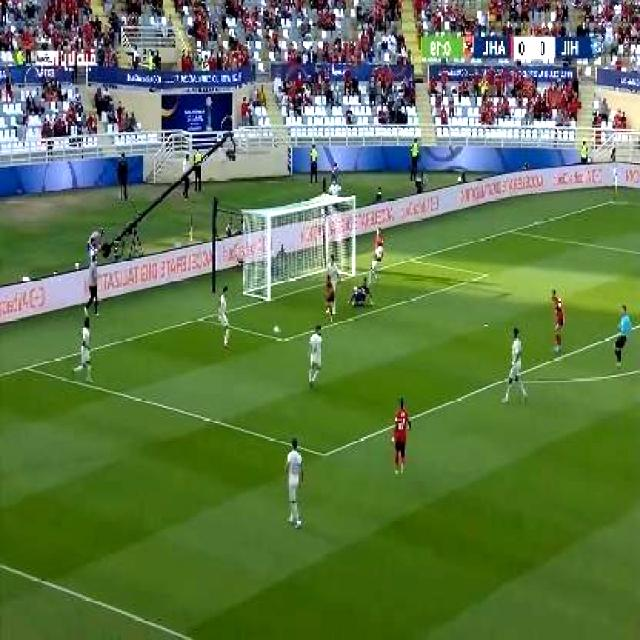bigarea_bottom_inner: (316, 440, 336, 466)
bigarea_bottom_outter: (18, 355, 38, 377)
bigarea_top_outter: (503, 222, 520, 238)
corner: (608, 191, 628, 206)
smallarea_bottom_inner: (276, 328, 292, 349)
smallarea_bottom_outter: (192, 308, 212, 328)
smallarea_top_inner: (476, 265, 496, 283)
smallarea_top_outter: (404, 249, 422, 268)
